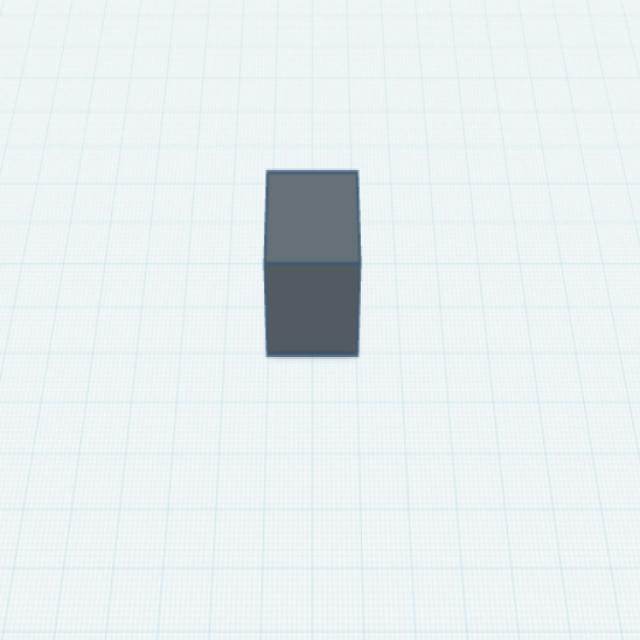cube: (260, 157, 367, 366)
